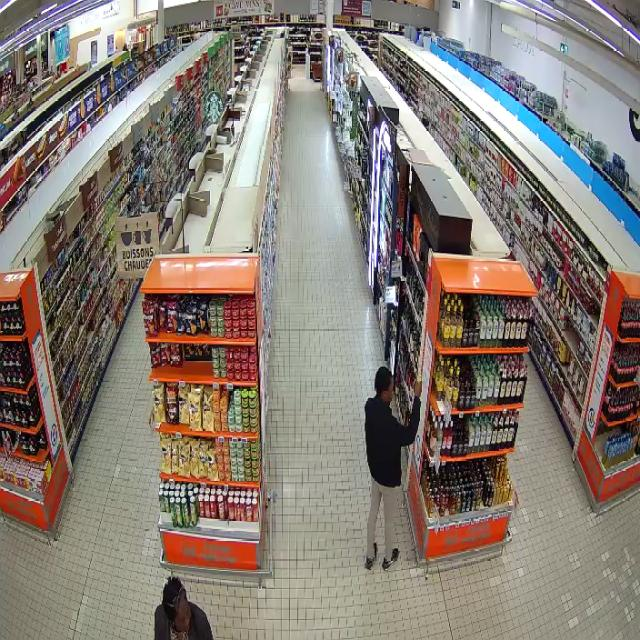article: (404, 394, 415, 426)
hands: (414, 381, 422, 397)
person: (365, 366, 420, 569)
